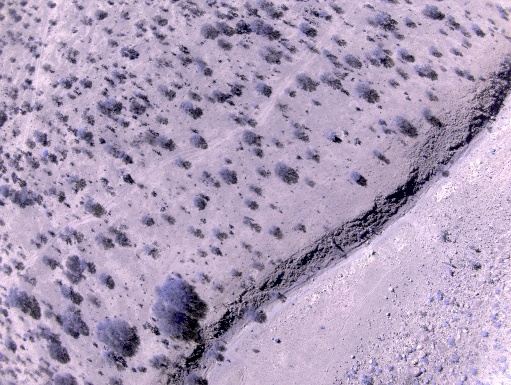agave: (447, 355, 460, 364), (469, 367, 479, 376), (436, 291, 444, 300), (387, 365, 395, 373), (421, 358, 429, 366), (434, 365, 443, 372), (446, 339, 455, 345), (375, 369, 383, 375), (360, 374, 368, 380), (482, 330, 488, 337), (443, 300, 450, 306), (350, 370, 357, 375), (372, 361, 377, 366)
